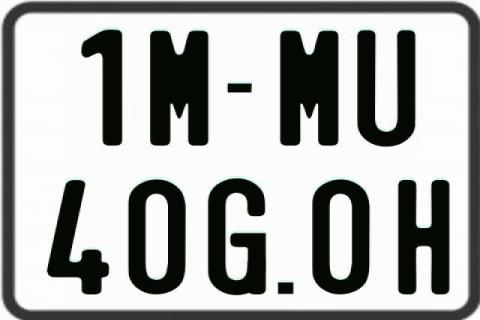0: (47, 180, 114, 298), (310, 178, 374, 298), (125, 179, 183, 296), (78, 29, 124, 145)
G: (208, 176, 272, 293)
H: (398, 179, 450, 295)
M: (280, 29, 341, 150), (149, 31, 210, 149)
U: (356, 31, 416, 151)
